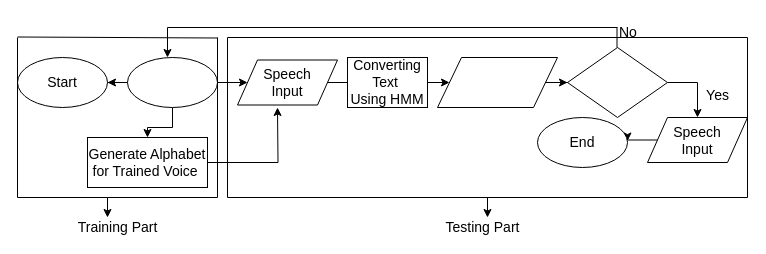
Image size: 766x254. Some labels were removed from this diagram. Here are the shapes that lost their labels. From the top down, the centre of each, then its label:
At point 172,82: "Training with voice data".
At point 497,82: "Text Match Using Cosine Similarity".
At point 617,82: "If Text Matches".
